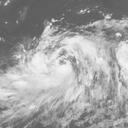cyclone: (26, 27, 105, 98)
